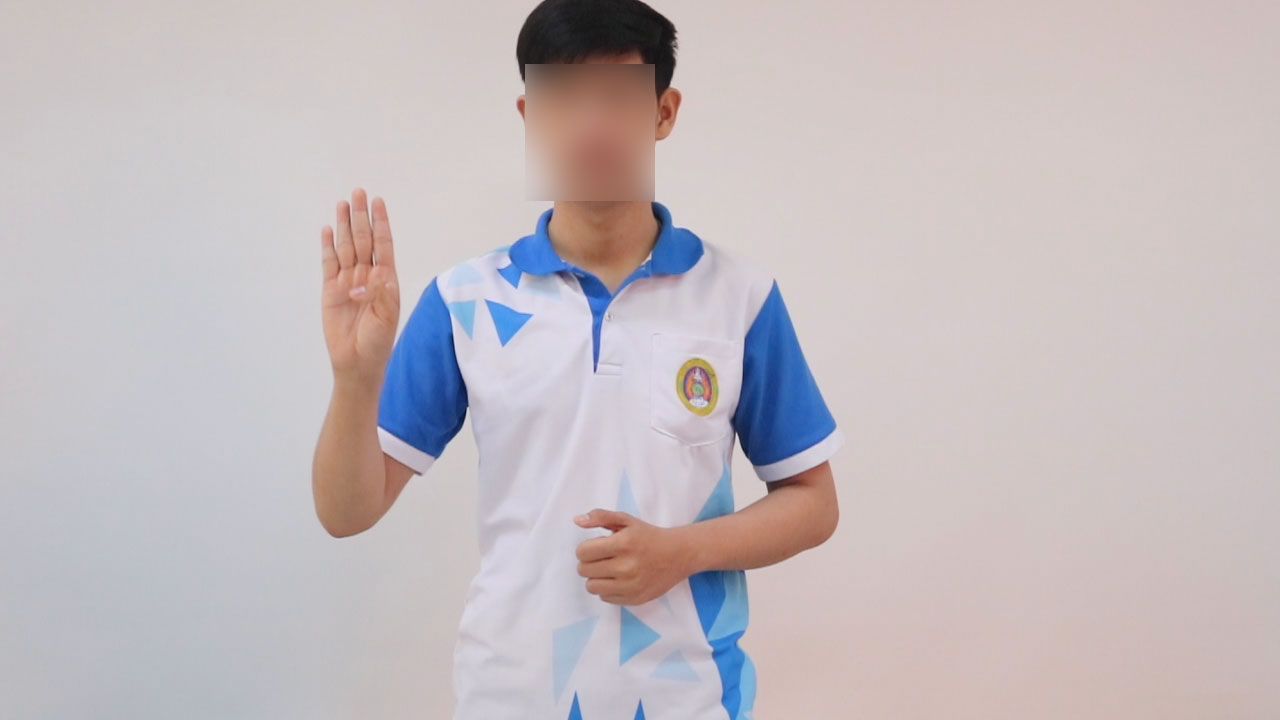bor: (309, 169, 416, 405)
